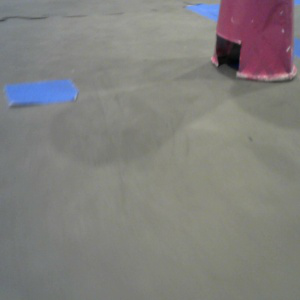right: (211, 1, 297, 81)
